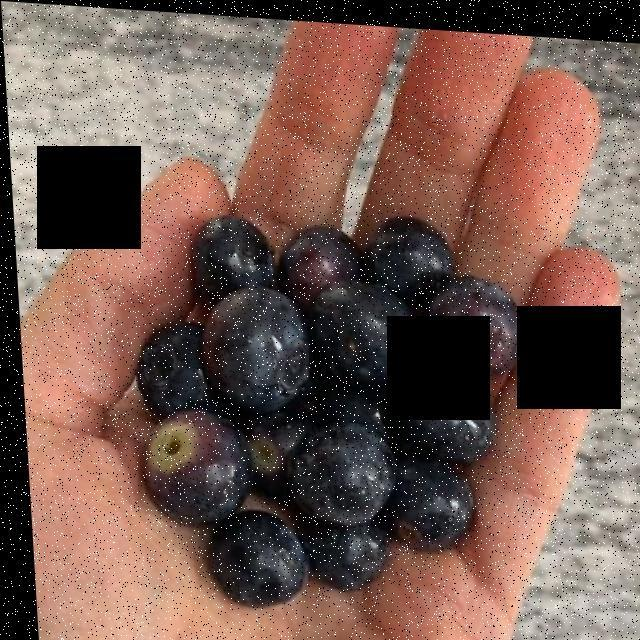blueberries: (133, 212, 515, 589)
